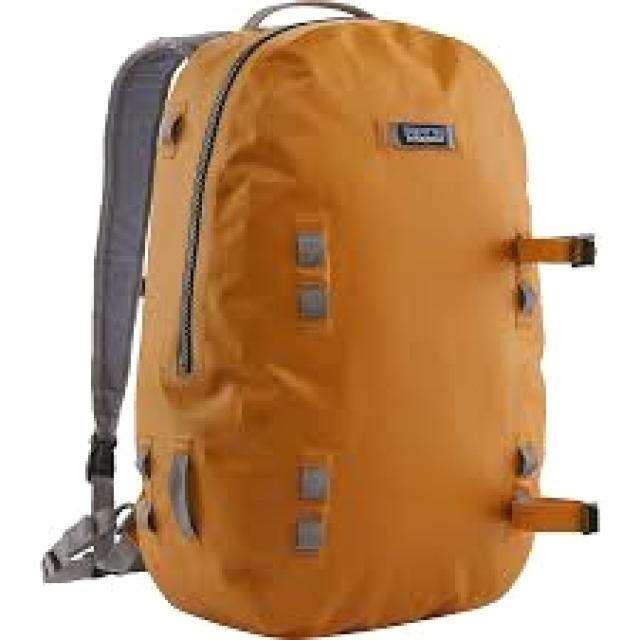backpack: (41, 1, 599, 638)
